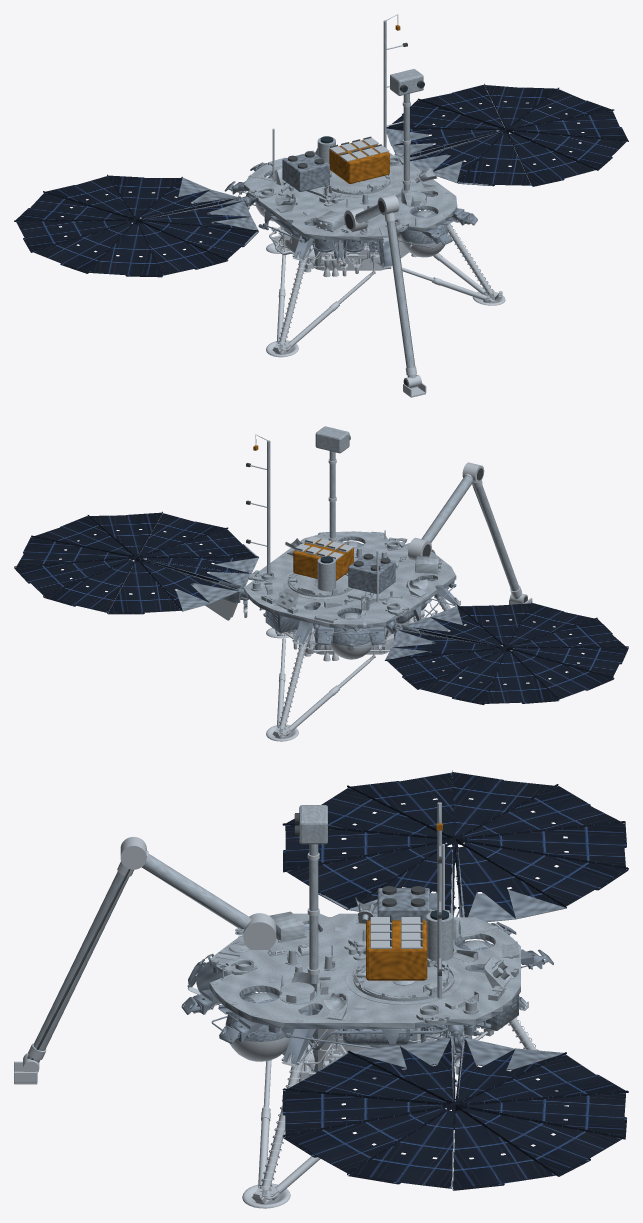
The model's file is phoenix.glb.
3 views of the same model, one above another, from view 1: azimuth 30°, elevation 25°; view 2: azimuth 150°, elevation 25°; view 3: azimuth 270°, elevation 25° (orthographic). The views are drawn at different scales.
Visible parts, largest first — view 1: phoenix-static-05, phoenix-static-00, phoenix-arm-finish-02, phoenix-static-06, phoenix-static-03, phoenix-arm-finish-00, phoenix-static-04; view 2: phoenix-static-05, phoenix-static-00, phoenix-arm-finish-02, phoenix-static-03, phoenix-static-06, phoenix-static-04, phoenix-arm-finish-00; view 3: phoenix-static-05, phoenix-static-00, phoenix-arm-finish-02, phoenix-arm-finish-00, phoenix-static-06, phoenix-static-04, phoenix-static-03, phoenix-static-02, phoenix-arm-finish-01.
Part boxes in pixels (box(x1,y1,x2,y2)): phoenix-static-05: box(14, 83, 628, 357); phoenix-static-00: box(317, 20, 423, 190); phoenix-arm-finish-02: box(355, 204, 416, 378); phoenix-static-06: box(329, 25, 400, 183); phoenix-static-03: box(282, 153, 329, 191); phoenix-arm-finish-00: box(344, 194, 426, 397); phoenix-static-04: box(272, 14, 410, 184); phoenix-static-05: box(14, 511, 628, 741); phoenix-static-00: box(267, 426, 349, 591); phoenix-arm-finish-02: box(421, 475, 521, 598); phoenix-static-03: box(348, 555, 395, 593); phoenix-static-06: box(253, 445, 353, 580); phoenix-static-04: box(250, 434, 378, 602); phoenix-arm-finish-00: box(408, 462, 532, 604); phoenix-static-05: box(181, 770, 628, 1208); phoenix-static-00: box(299, 802, 453, 998); phoenix-arm-finish-02: box(27, 853, 251, 1062); phoenix-arm-finish-00: box(14, 836, 276, 1084); phoenix-static-06: box(366, 823, 442, 980); phoenix-static-04: box(307, 802, 444, 974); phoenix-static-03: box(377, 888, 429, 920); phoenix-static-02: box(295, 813, 441, 975); phoenix-arm-finish-01: box(31, 866, 214, 1059).
Size of the model in its own units: 5.5 by 2.28 by 3.42.
7 materials, 4 textured.
